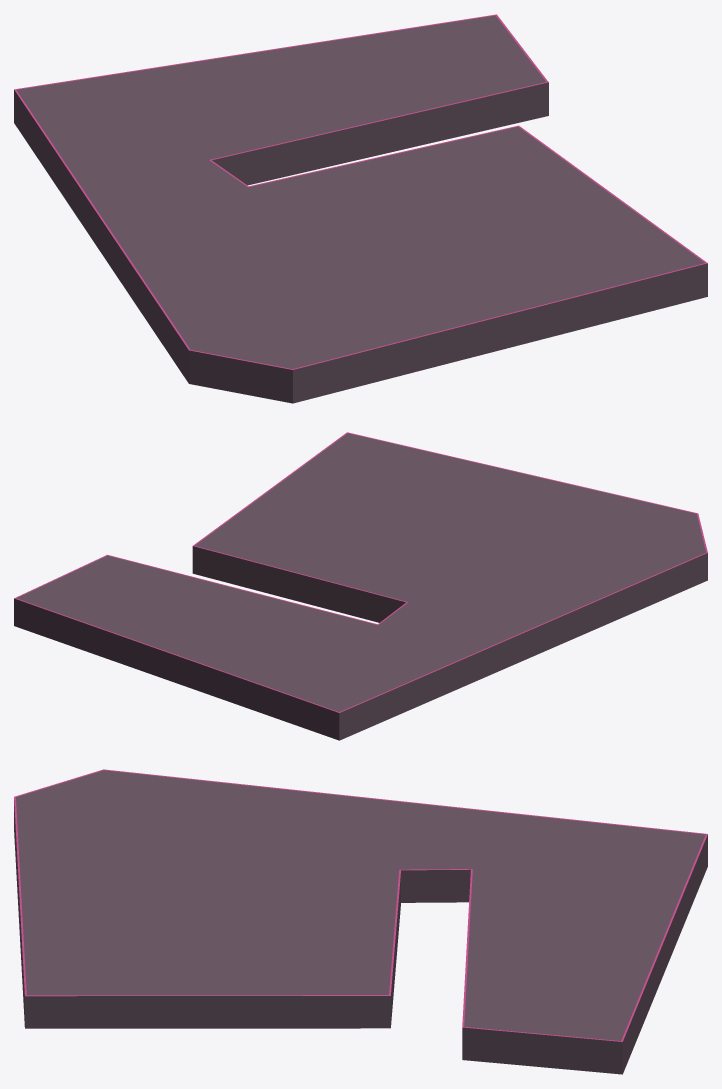
Rendered from way-205657498.glb.
3 views of the same model, one above another, from view 1: azimuth 30°, elevation 25°; view 2: azimuth 150°, elevation 25°; view 3: azimuth 270°, elevation 25° (orthographic). The views are drawn at different scales.
Parts seen in each view (by area): view 1: way-205657498; view 2: way-205657498; view 3: way-205657498.
Boxes of the visible parts, box(x1,y1,x2,y2) form: way-205657498: box(14, 14, 707, 403); way-205657498: box(14, 432, 707, 740); way-205657498: box(14, 769, 707, 1074).
Size of the model in its own units: 53.85 by 3 by 57.93.
